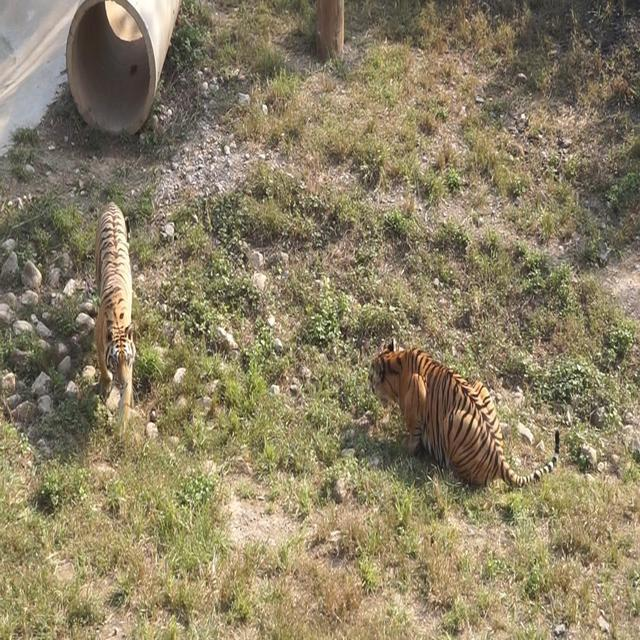tiger: (367, 339, 560, 489), (93, 200, 136, 438)
